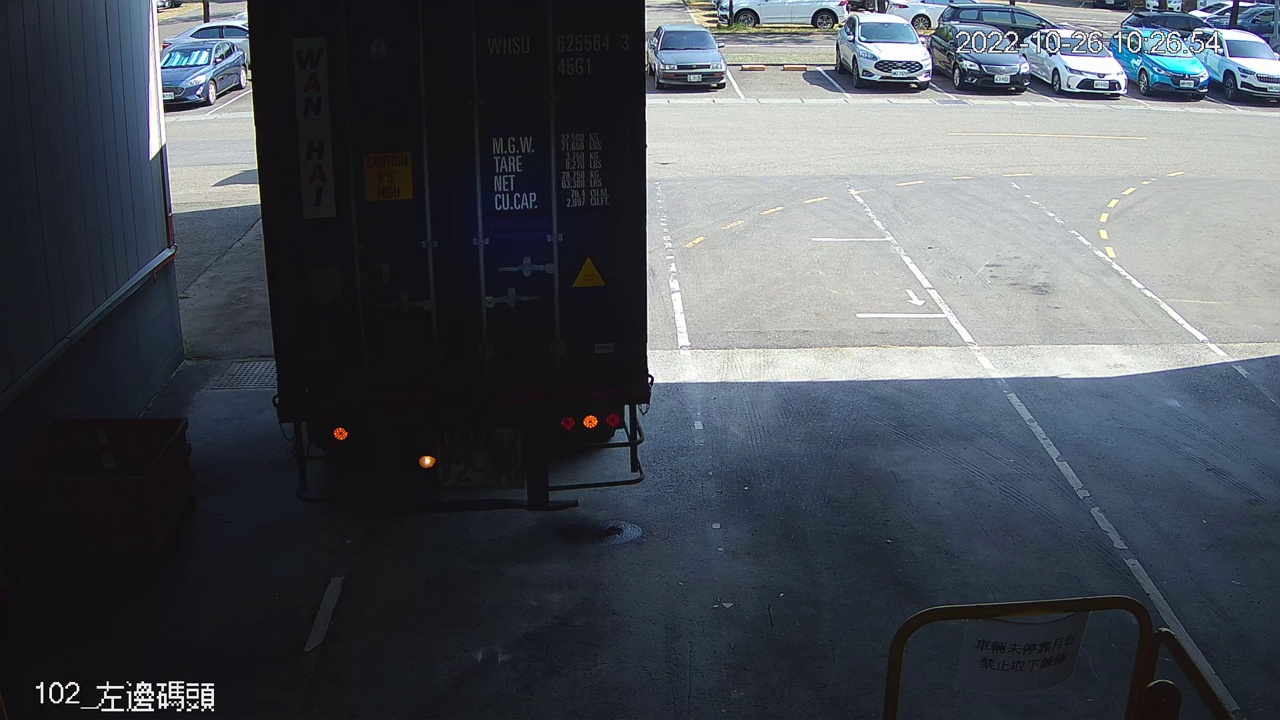container: (480, 27, 635, 82)
